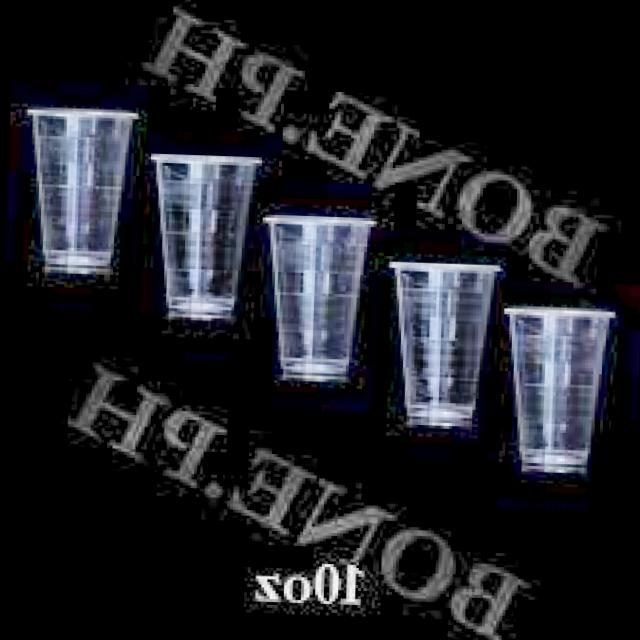plastic cup: (495, 296, 620, 486), (375, 257, 508, 429), (254, 211, 380, 386), (16, 105, 140, 275), (144, 153, 261, 322)
